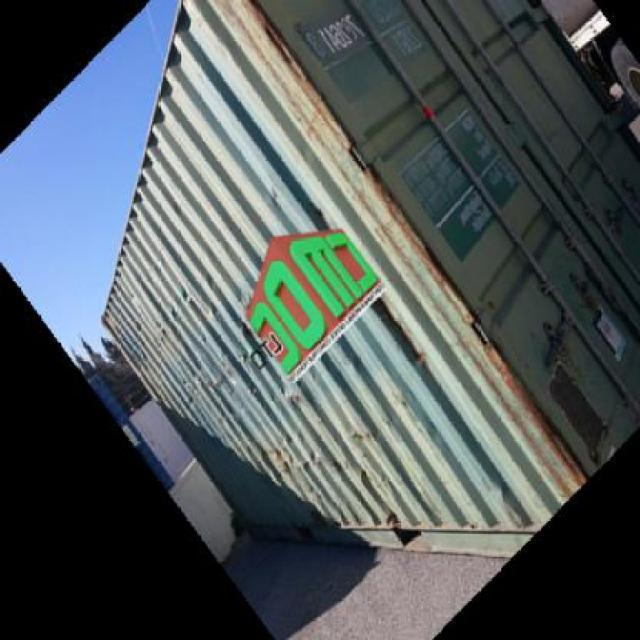rust: (246, 7, 343, 145), (490, 350, 582, 492), (363, 276, 441, 380), (251, 429, 329, 489)
